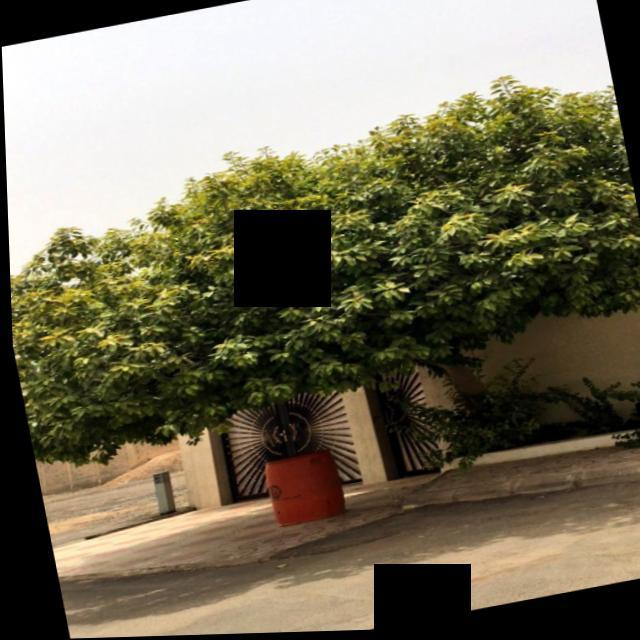Tree: (3, 61, 640, 539)
